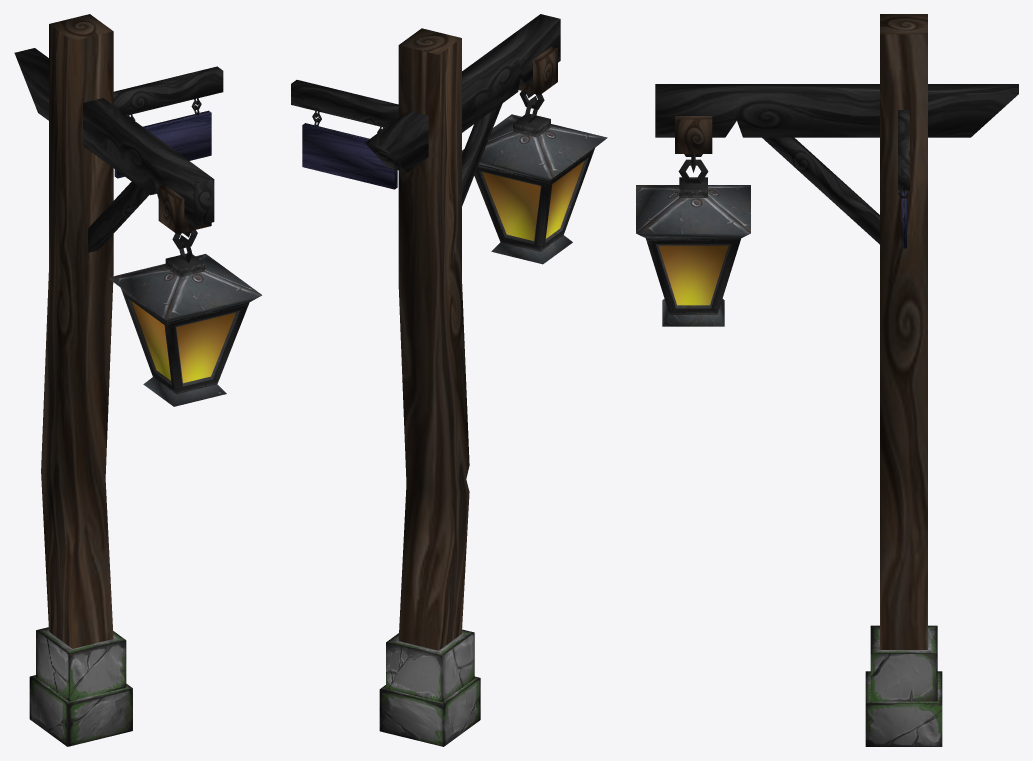
File: Streetlamp.fbx
3 renders of one model, left to right at view 1: azimuth 30°, elevation 25°; view 2: azimuth 150°, elevation 25°; view 3: azimuth 270°, elevation 25°, orthographic. The views are drawn at different scales.
Visible parts, largest first — view 1: Torus.001; view 2: Torus.001; view 3: Torus.001.
Boxes of the visible parts, x1,y1,x2,y2 form: Torus.001: (14,14,261,746); Torus.001: (291,14,607,746); Torus.001: (636,14,1018,746).
Bounding box in the file's own units: 2.3 × 8.15 × 4.
